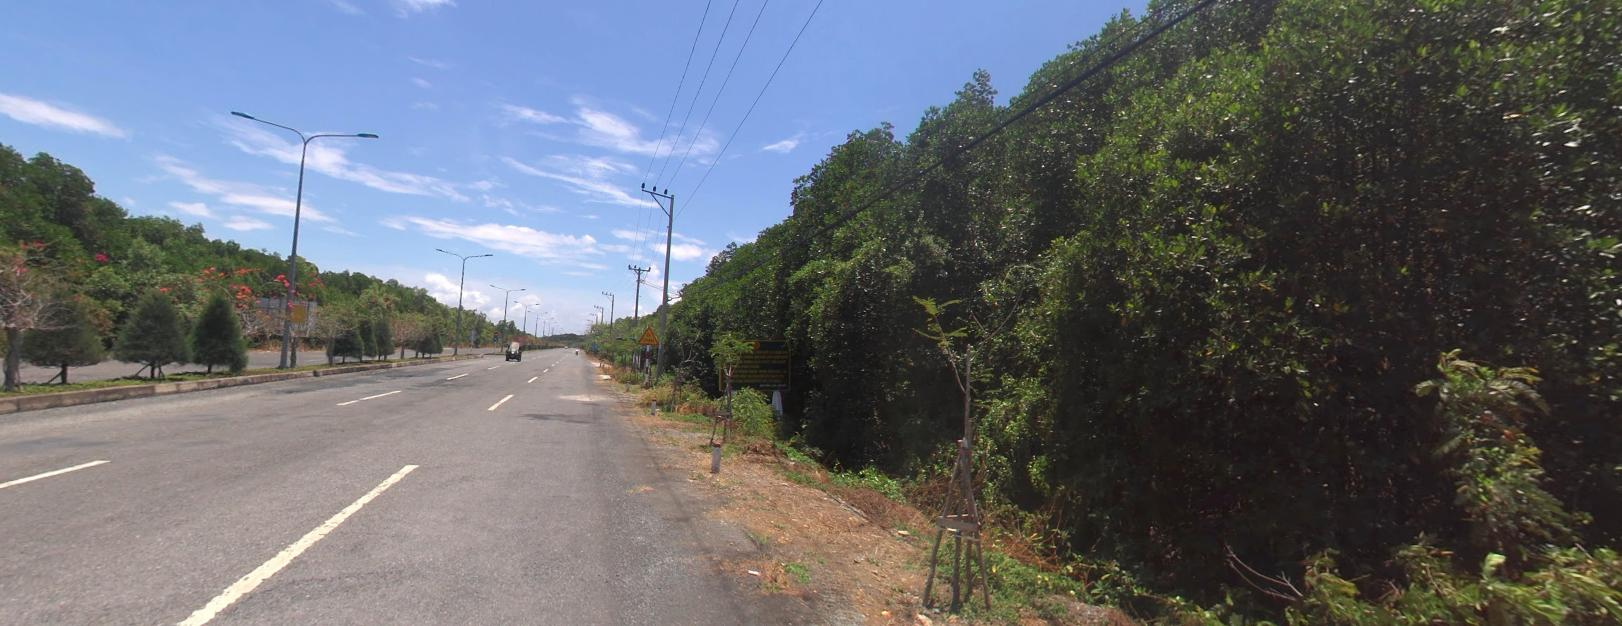Cam nguoc chieu: (494, 330, 498, 334)
Hieu lenh: (493, 335, 498, 340)
Nguy hiem: (637, 323, 658, 342)
